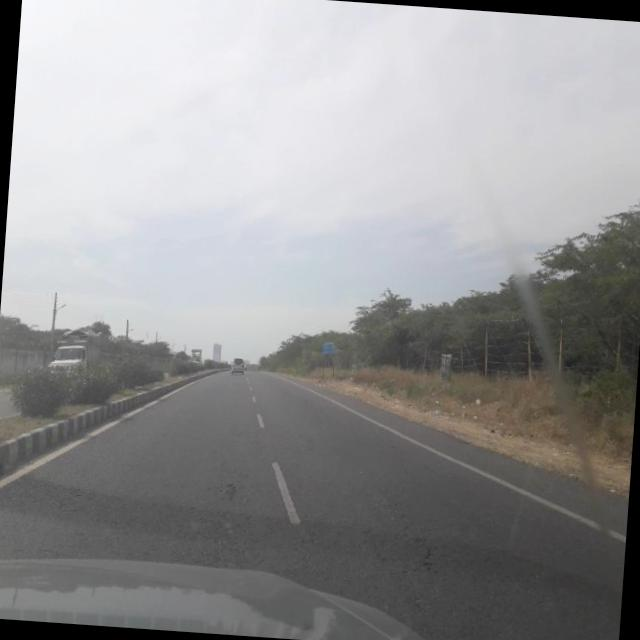crack: (362, 491, 446, 578)
